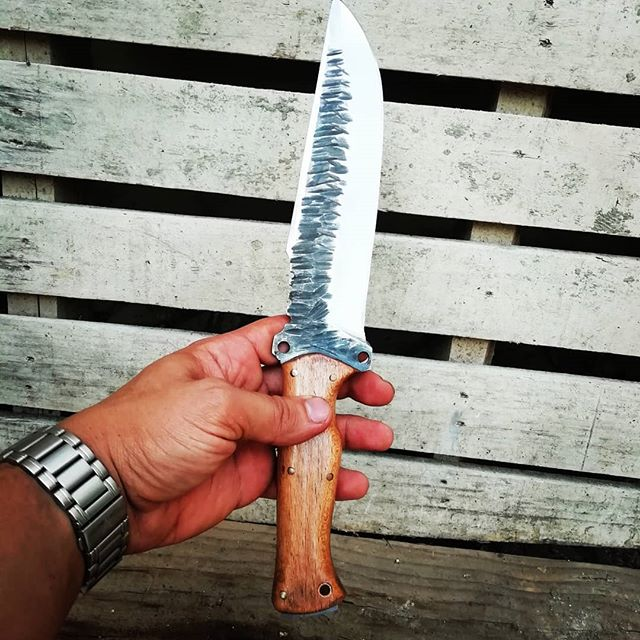knife: (271, 1, 384, 614)
